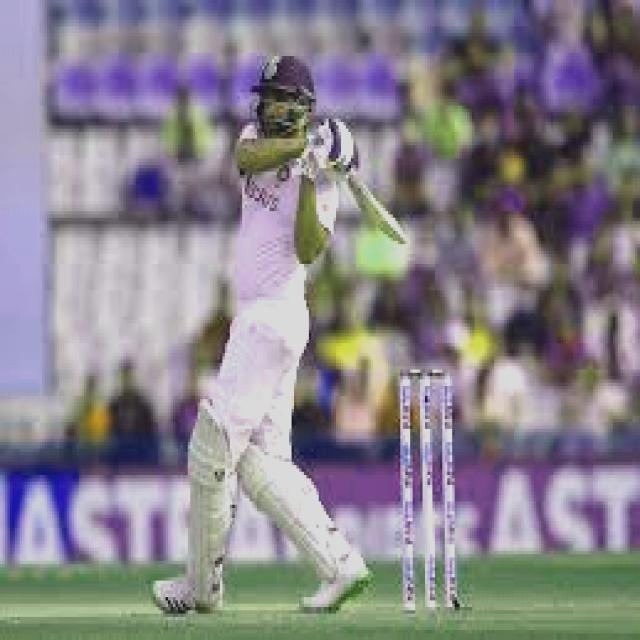toe: (387, 215, 409, 252)
